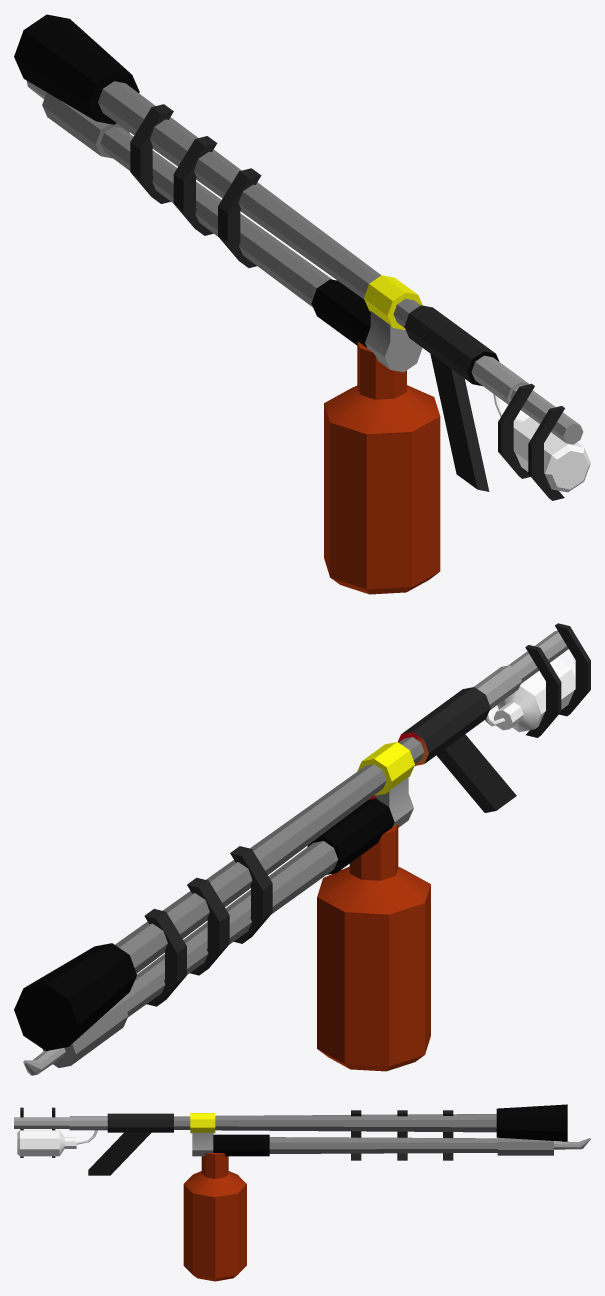
File: LansaChamas.fbx
3 views of the same model, one above another, from view 1: azimuth 30°, elevation 25°; view 2: azimuth 150°, elevation 25°; view 3: azimuth 270°, elevation 25° (orthographic). The views are drawn at different scales.
Visible parts, largest first — view 1: Interior.001; view 2: Interior.001; view 3: Interior.001.
Part boxes in pixels (x1,y1,x2,y2): Interior.001: (14, 14, 590, 594); Interior.001: (14, 623, 590, 1075); Interior.001: (14, 1104, 590, 1281).
Bounding box in the file's own units: 7.25 × 20.94 × 66.12.
